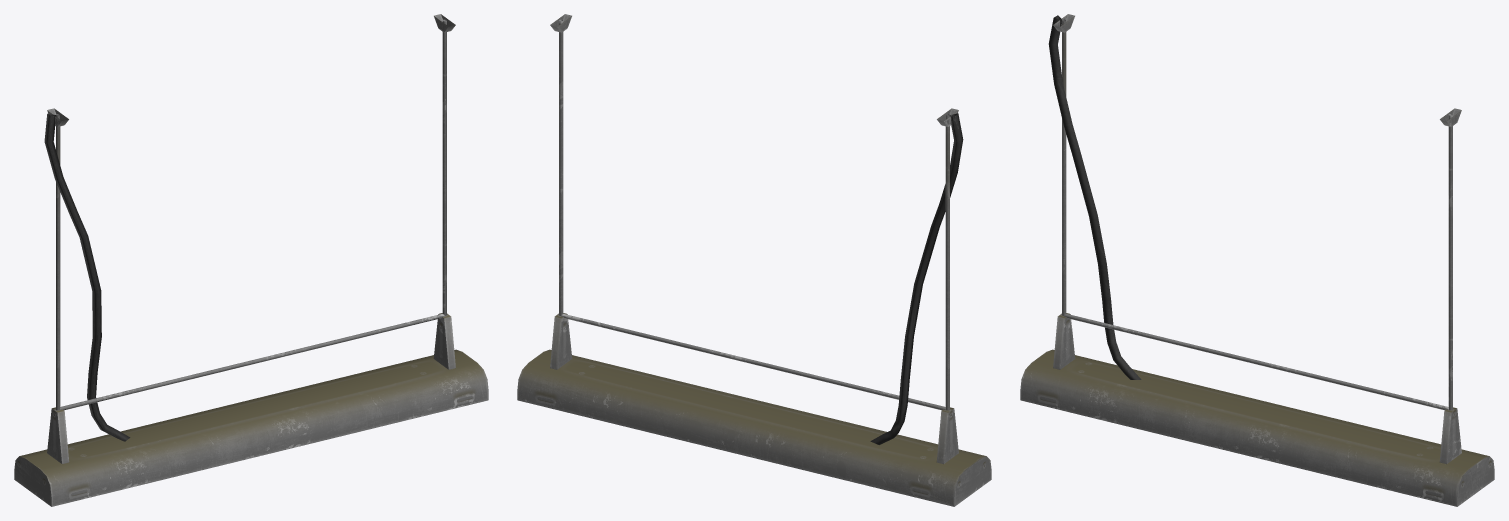
The model's file is SM_LampCeilingA_03.FBX.
The picture shows the model from 3 angles, left to right: view 1: azimuth 30°, elevation 25°; view 2: azimuth 150°, elevation 25°; view 3: azimuth 330°, elevation 25°; orthographic projection.
Visible parts, largest first — view 1: SM_LampCeilingA_03_LOD0; view 2: SM_LampCeilingA_03_LOD0; view 3: SM_LampCeilingA_03_LOD0.
Part boxes in pixels (x1=…): SM_LampCeilingA_03_LOD0: x1=14, y1=14, x2=488, y2=506; SM_LampCeilingA_03_LOD0: x1=517, y1=14, x2=991, y2=506; SM_LampCeilingA_03_LOD0: x1=1020, y1=14, x2=1494, y2=506.
Size of the model in its own units: 200 by 29.56 by 168.
